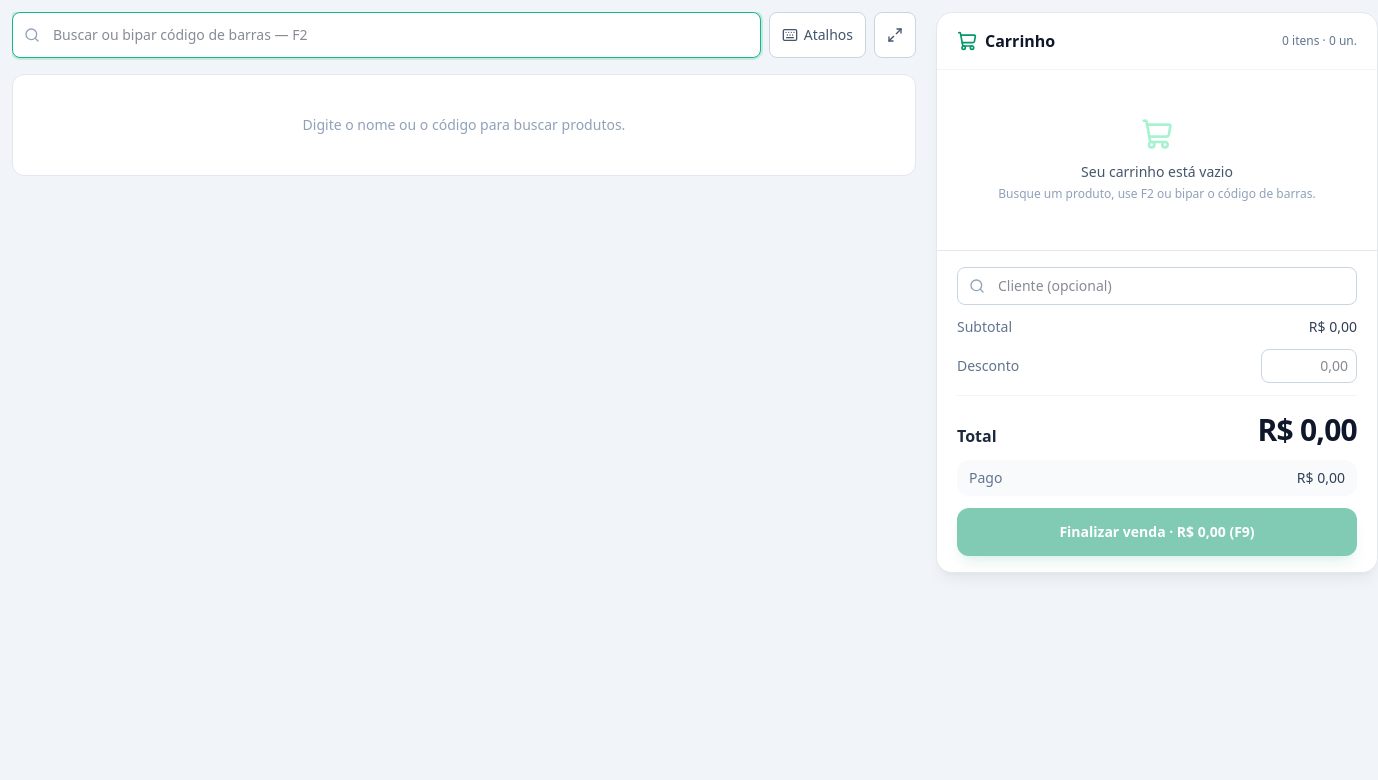
Test case: Pdv › atualiza a quantidade e o total ao clicar em + no carrinho
Type "Água" into the field with placeholder "Buscar ou bipar código de barras — F2" at (386, 35), box [12,12,761,58]
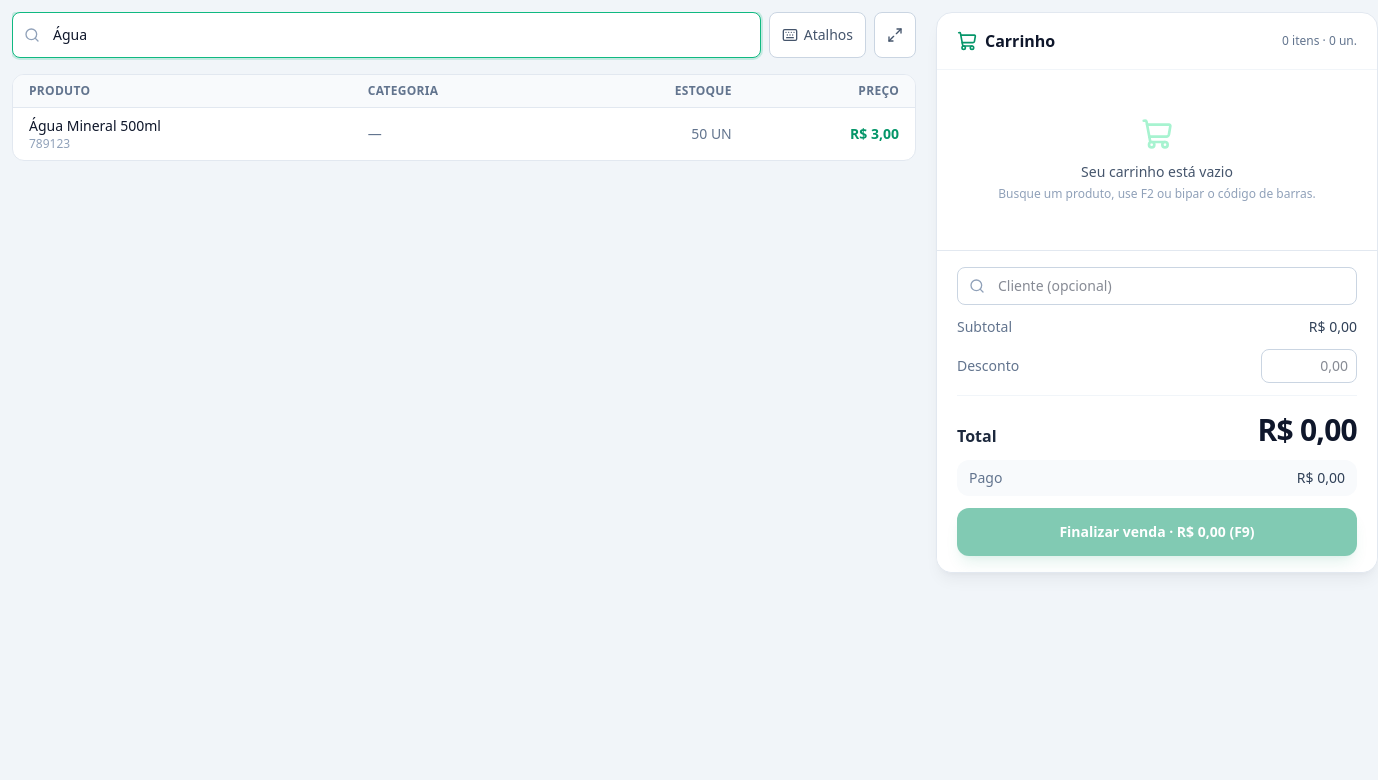
Check: the text "Água Mineral 500ml" is shown
Click the text "Água Mineral 500ml" at (95, 126), box [29,116,161,135]
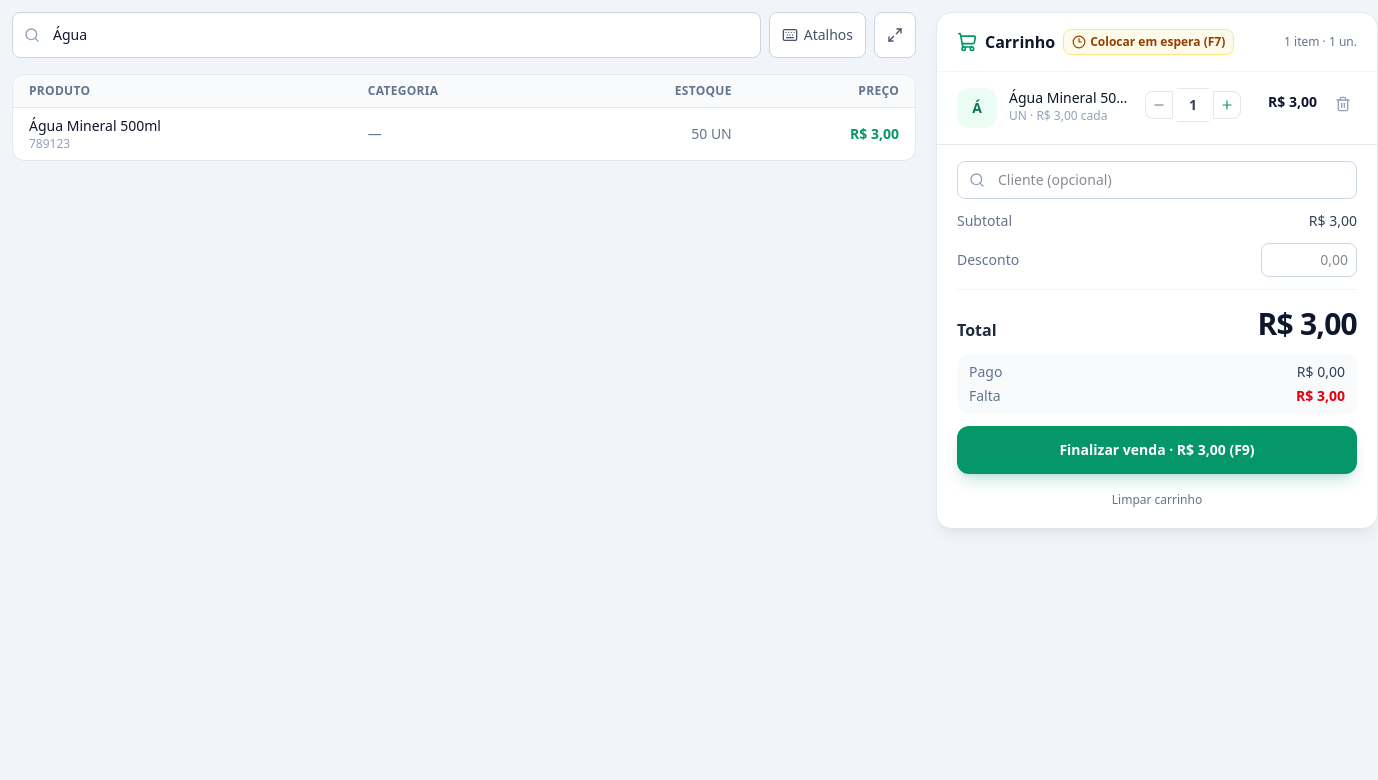
Check: the list item "Água Mineral 500ml" is shown, box [1009,88,1141,107]
Click the button named "Adicionar uma unidade" at (1227, 105), box [1213,91,1241,119]
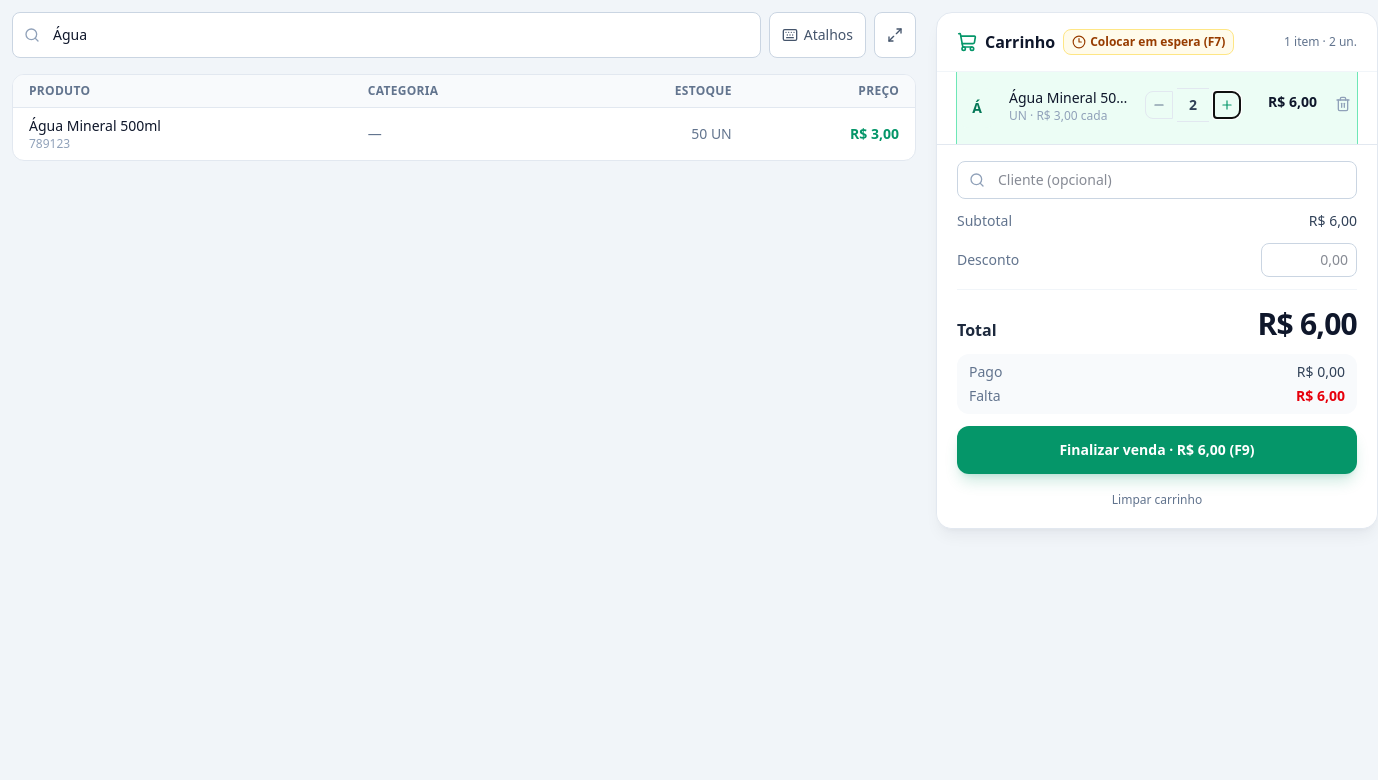
Check: the text "R$ 6,00" in the row of "cada" is shown, box [1268,92,1317,111]
